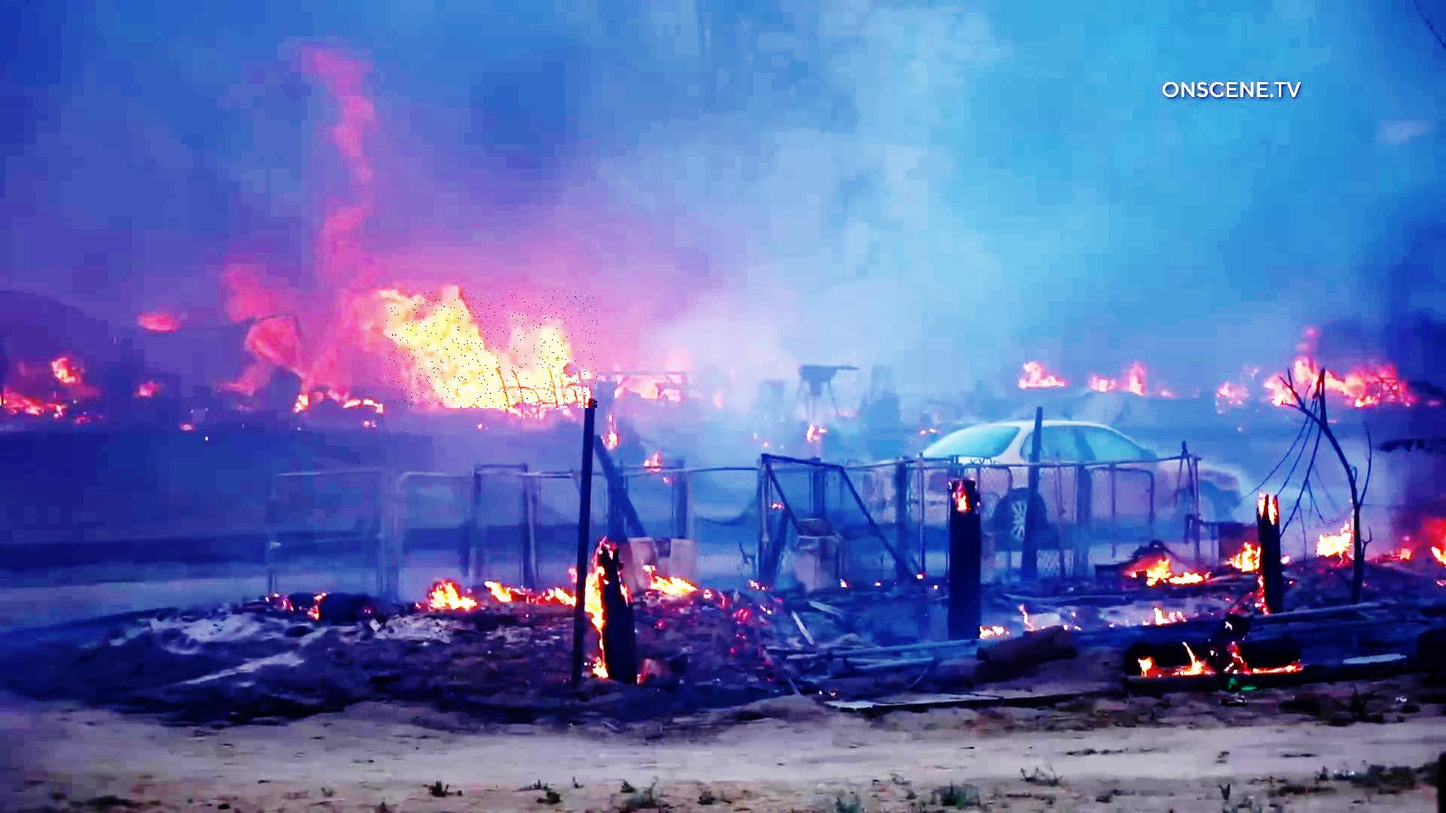fire: (384, 291, 597, 408)
